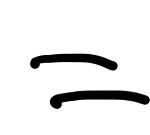eqv: (31, 53, 150, 109)
